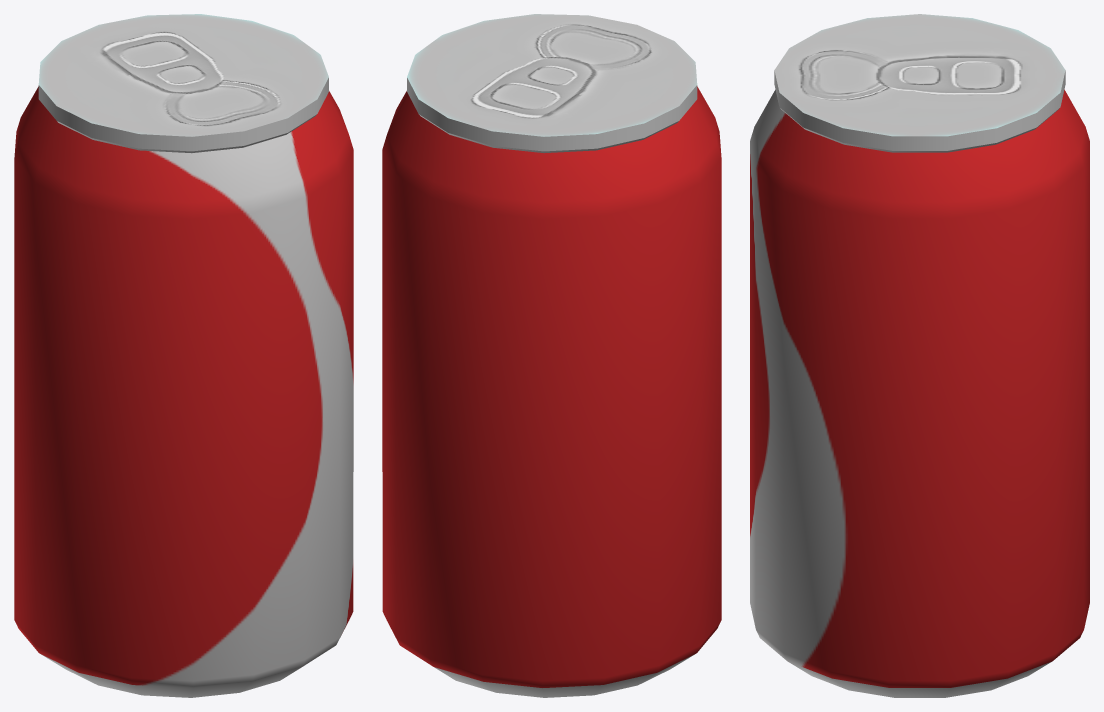
The model's file is yilaguan_01.FBX.
The picture shows the model from 3 angles, left to right: view 1: azimuth 30°, elevation 25°; view 2: azimuth 150°, elevation 25°; view 3: azimuth 270°, elevation 25°; orthographic projection.
Visible parts, largest first — view 1: yilaguan_01; view 2: yilaguan_01; view 3: yilaguan_01.
Part boxes in pixels (left/top/right/bottom): yilaguan_01: left=14, top=14, right=353, bottom=697; yilaguan_01: left=382, top=14, right=721, bottom=697; yilaguan_01: left=750, top=14, right=1089, bottom=697.
Bounding box in the file's own units: 700 × 1291 × 702.
1 material, 1 textured.
